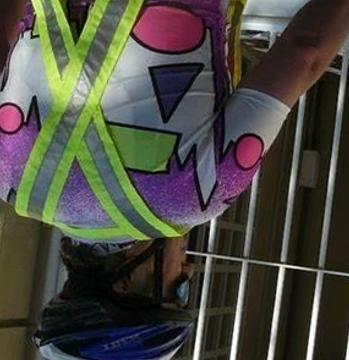Vest: (8, 0, 211, 226)
